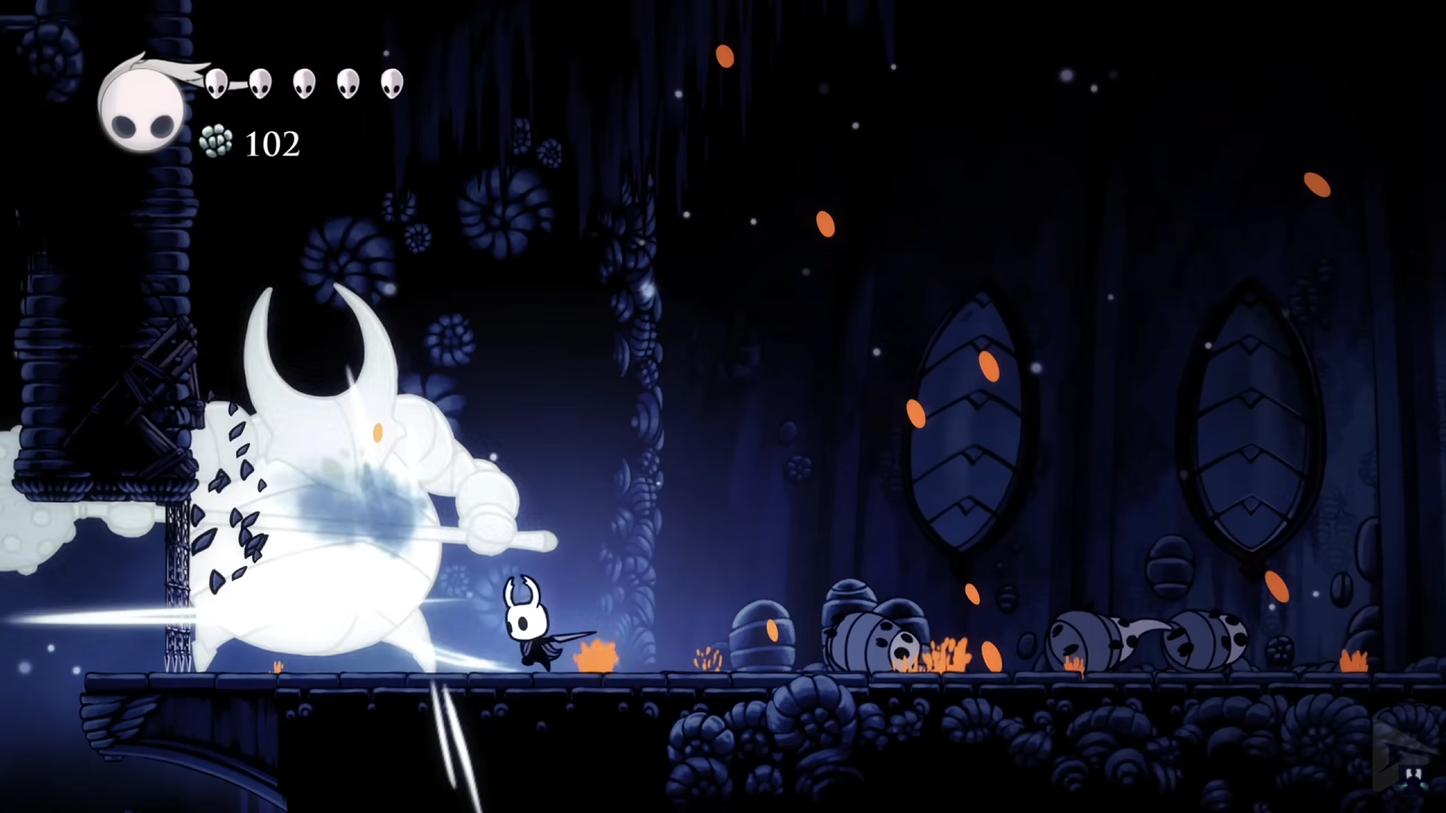HK: (500, 571, 562, 673)
